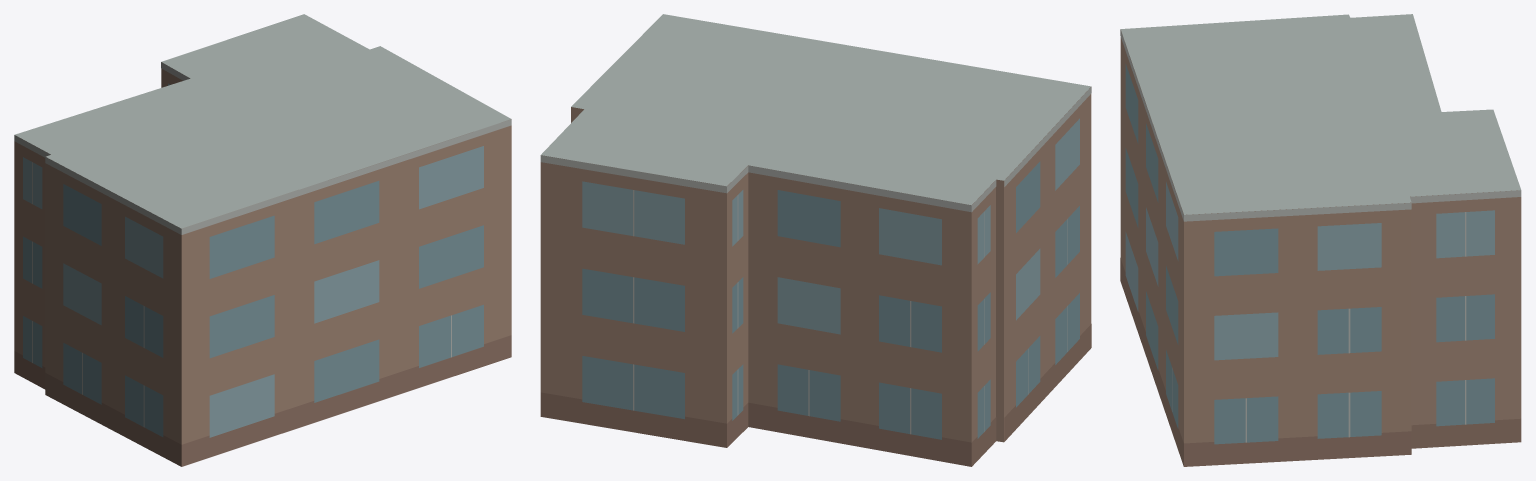
The model's file is survey-upis-33030050.glb.
3 views of the same model, side by side, from view 1: azimuth 30°, elevation 25°; view 2: azimuth 150°, elevation 25°; view 3: azimuth 270°, elevation 25° (orthographic). The views are drawn at different scales.
Visible parts, largest first — view 1: survey-upis-33030050.tmp; view 2: survey-upis-33030050.tmp; view 3: survey-upis-33030050.tmp.
Boxes of the visible parts, x1,y1,x2,y2 form: survey-upis-33030050.tmp: (14,14,511,466); survey-upis-33030050.tmp: (540,14,1091,466); survey-upis-33030050.tmp: (1120,14,1521,466).
Size of the model in its own units: 15.57 by 9.1 by 13.13.
